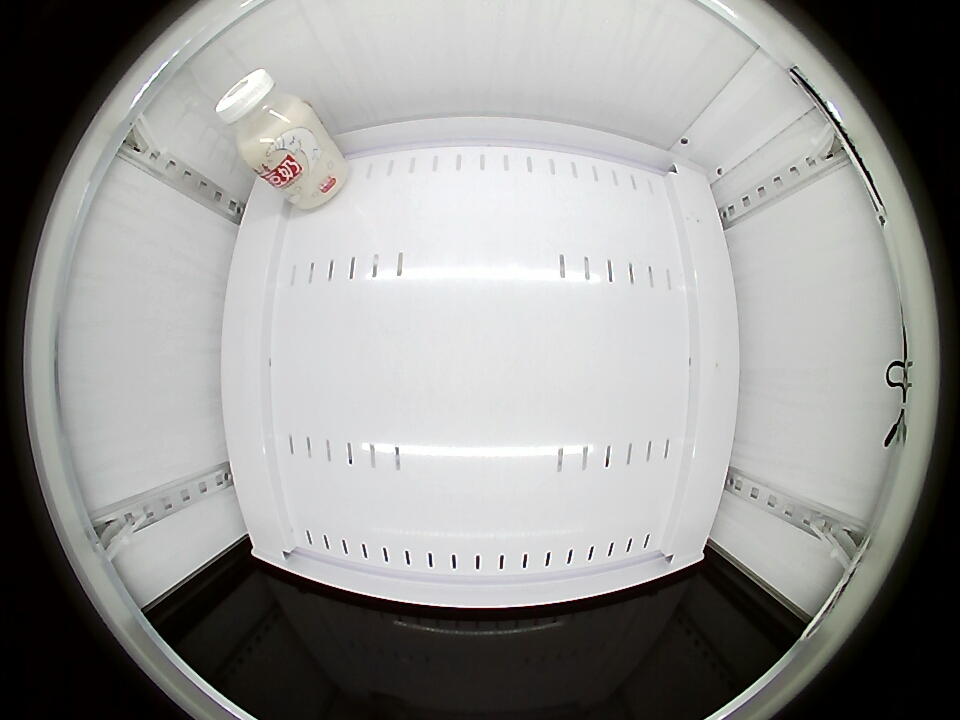weiweidounai: (216, 69, 309, 166)
